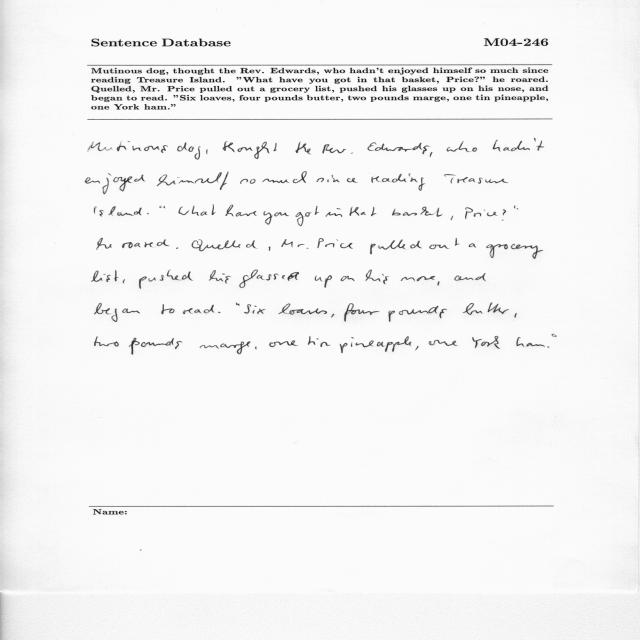word: (157, 171, 229, 190), (86, 174, 146, 195), (340, 336, 411, 353), (239, 270, 299, 288), (139, 270, 193, 289), (223, 141, 277, 159), (371, 173, 425, 191), (88, 141, 168, 153), (388, 306, 447, 322), (129, 338, 182, 355), (487, 244, 544, 259), (95, 303, 140, 322), (191, 240, 257, 252), (370, 240, 422, 255), (368, 143, 430, 155), (493, 138, 544, 152), (344, 303, 380, 322), (200, 342, 251, 355), (444, 174, 508, 184), (463, 303, 509, 315), (392, 206, 442, 217), (279, 304, 327, 315), (95, 206, 142, 217), (262, 172, 307, 183), (296, 206, 320, 226), (178, 204, 216, 216), (122, 239, 169, 248), (317, 238, 353, 249), (177, 143, 200, 160), (225, 205, 257, 217), (465, 207, 497, 219), (263, 211, 289, 225), (472, 336, 500, 349), (429, 238, 460, 249), (447, 141, 477, 152), (317, 175, 358, 183), (92, 270, 119, 282), (366, 270, 389, 284), (322, 144, 353, 154), (516, 337, 545, 347), (209, 270, 231, 283), (281, 239, 309, 249), (183, 305, 214, 314), (454, 273, 486, 281), (94, 337, 119, 347), (350, 207, 377, 216), (308, 336, 330, 347), (315, 275, 332, 288), (245, 304, 266, 314), (269, 340, 298, 347), (295, 142, 311, 154), (401, 276, 435, 281), (429, 340, 457, 346), (97, 238, 112, 249), (326, 208, 343, 217), (161, 304, 175, 314), (240, 179, 256, 184), (341, 276, 355, 281), (502, 210, 506, 221), (469, 243, 476, 248), (514, 206, 518, 210), (415, 346, 419, 350), (430, 152, 433, 157), (437, 281, 440, 286), (552, 334, 557, 337), (160, 206, 166, 208), (236, 303, 240, 306), (332, 314, 335, 318), (515, 313, 517, 318), (206, 150, 208, 154), (451, 216, 453, 220), (269, 247, 271, 251), (123, 280, 125, 284), (255, 347, 257, 350), (176, 247, 178, 249), (548, 346, 550, 348), (218, 312, 221, 313), (147, 213, 149, 214)
